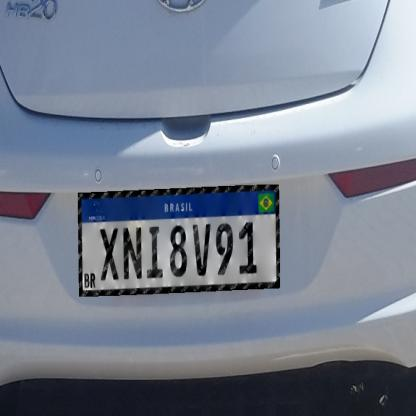PlacaM: (78, 184, 280, 296)
